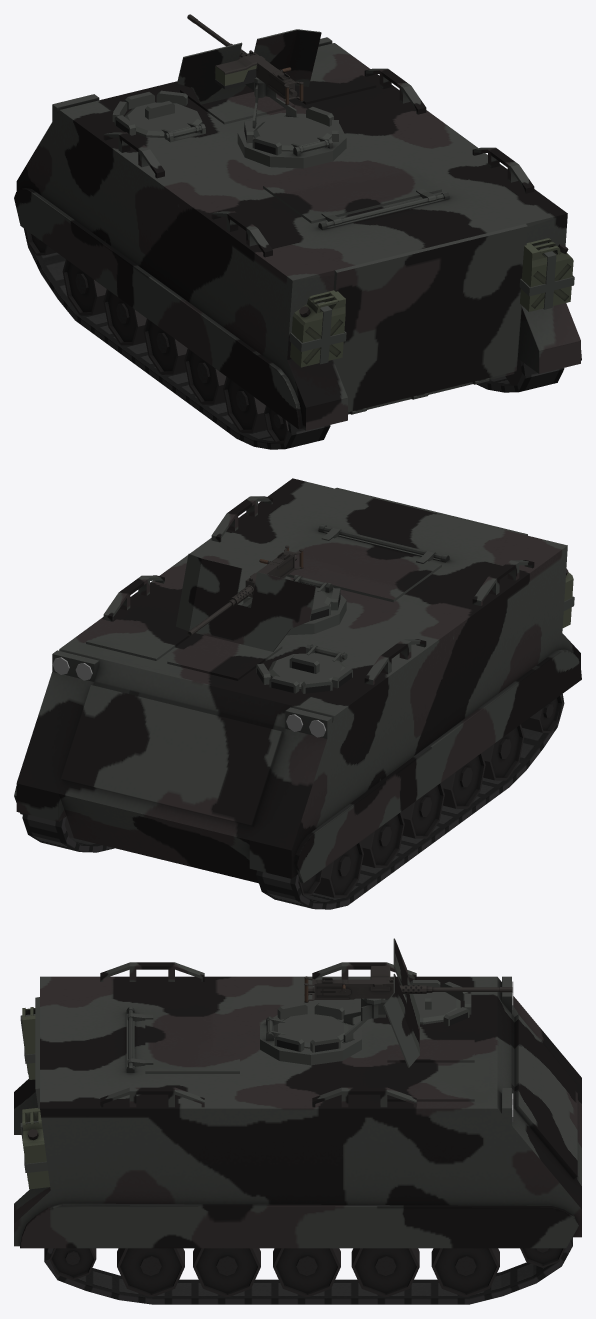
Rendered from M113_APC.fbx.
3 renders of one model, top to bottom at view 1: azimuth 30°, elevation 25°; view 2: azimuth 150°, elevation 25°; view 3: azimuth 270°, elevation 25°, orthographic.
Visible parts, largest first — view 1: M113_Body (×2), M113_Rear_Door, M113_Top_Door, M113_Track (×2), M113_Gun_Shield, M113_Turret, M113_Jerry_Can_Green_Left, M113_Jerry_Can_Green_Right, M113_Hatch_Gunner, M113_Hatch_Driver, M113_Wheel_2, M113_Wheel_4 (+7 smaller); view 2: M113_Body (×2), M113_Gun_Shield, M113_Track (×2), M113_Top_Door, M113_Wheel_2, M113_Hatch_Driver, M113_Wheel_5, M113_Wheel_3, M113_Wheel_4, M113_Wheel_6, M113_Turret, M113_Wheel_Small_2; view 3: M113_Body (×2), M113_Track, M113_Top_Door, M113_Turret, M113_Wheel_3, M113_Wheel_2, M113_Wheel_6, M113_Wheel_4, M113_Wheel_5, M113_Gun_Shield, M113_Hatch_Gunner, M113_Jerry_Can_Green_Right (+6 smaller).
Part boxes in pixels (x1,y1,x2,y2): M113_Body (×2): [14, 14, 581, 430]; M113_Rear_Door: [333, 224, 527, 412]; M113_Top_Door: [263, 154, 443, 226]; M113_Track (×2): [24, 228, 564, 449]; M113_Gun_Shield: [177, 29, 321, 104]; M113_Turret: [237, 106, 346, 168]; M113_Jerry_Can_Green_Left: [290, 290, 345, 367]; M113_Jerry_Can_Green_Right: [520, 238, 573, 311]; M113_Hatch_Gunner: [253, 116, 331, 153]; M113_Hatch_Driver: [124, 102, 202, 139]; M113_Wheel_2: [62, 259, 106, 315]; M113_Wheel_4: [143, 318, 187, 374]; M113_Body (×2): [14, 478, 581, 883]; M113_Gun_Shield: [176, 553, 316, 651]; M113_Track (×2): [22, 694, 564, 909]; M113_Top_Door: [286, 526, 441, 602]; M113_Wheel_2: [313, 842, 363, 897]; M113_Hatch_Driver: [268, 645, 347, 688]; M113_Wheel_5: [441, 753, 485, 808]; M113_Wheel_3: [360, 812, 404, 868]; M113_Wheel_4: [401, 782, 444, 838]; M113_Wheel_6: [482, 724, 524, 780]; M113_Turret: [238, 575, 346, 635]; M113_Wheel_Small_2: [521, 695, 562, 732]; M113_Body (×2): [14, 962, 581, 1248]; M113_Track: [44, 1237, 572, 1304]; M113_Top_Door: [127, 1009, 239, 1073]; M113_Turret: [260, 1002, 361, 1065]; M113_Wheel_3: [351, 1248, 419, 1296]; M113_Wheel_2: [431, 1248, 499, 1296]; M113_Wheel_6: [117, 1248, 184, 1296]; M113_Wheel_4: [273, 1248, 340, 1296]; M113_Wheel_5: [193, 1248, 260, 1296]; M113_Gun_Shield: [378, 938, 419, 1067]; M113_Hatch_Gunner: [266, 1013, 348, 1048]; M113_Jerry_Can_Green_Right: [22, 1108, 50, 1189].
Bounding box in the file's own units: 15.66 × 14.5 × 27.72.
